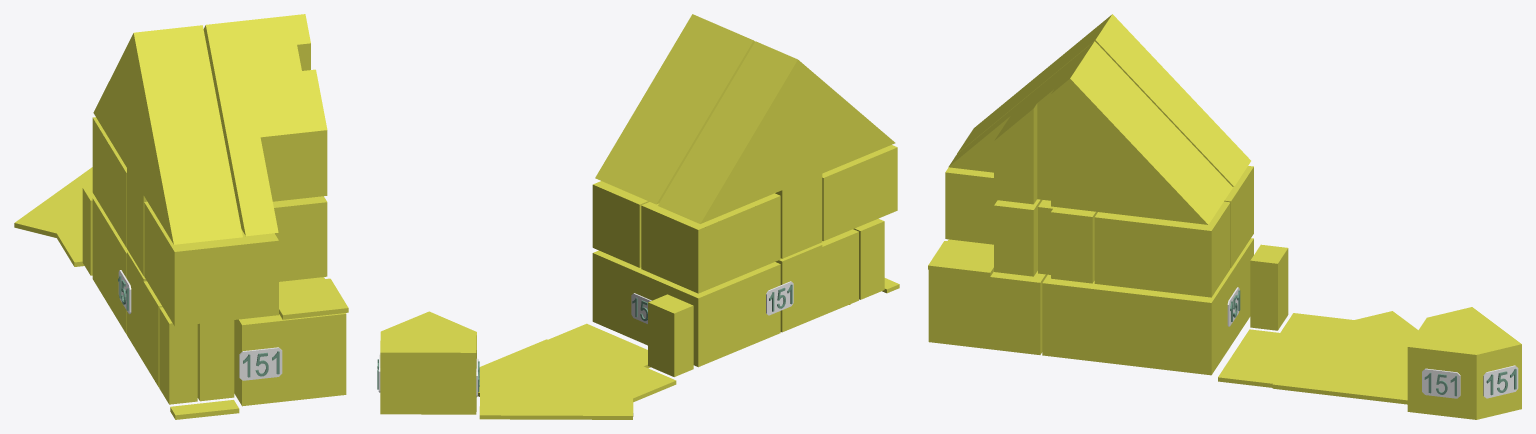
3 views of the same model, side by side, from view 1: azimuth 30°, elevation 25°; view 2: azimuth 150°, elevation 25°; view 3: azimuth 270°, elevation 25° (orthographic). The views are drawn at different scales.
Visible parts, largest first — view 1: g_6, g_7, g_11, g_1, g_2, g_8, g_15, g_5, g_9, g_0, g_17, g_14 (+3 smaller); view 2: g_7, g_15, g_6, g_0, g_9, g_3, g_2, g_8, g_11, g_10, g_4, g_14 (+2 smaller); view 3: g_6, g_0, g_15, g_10, g_3, g_1, g_7, g_11, g_13, g_4, g_9, g_17 (+3 smaller).
Part boxes in pixels (x1,y1,x2,y2): g_6: [203, 14, 327, 236]; g_7: [93, 25, 242, 244]; g_11: [144, 196, 327, 326]; g_1: [234, 277, 346, 406]; g_2: [127, 252, 234, 401]; g_8: [127, 29, 173, 194]; g_15: [14, 167, 92, 266]; g_5: [159, 307, 197, 404]; g_9: [92, 117, 126, 247]; g_0: [92, 197, 128, 334]; g_17: [279, 278, 348, 319]; g_14: [127, 168, 147, 275]; g_7: [658, 41, 895, 223]; g_15: [478, 323, 676, 419]; g_6: [595, 14, 754, 204]; g_0: [592, 250, 780, 367]; g_9: [641, 193, 780, 293]; g_3: [380, 311, 476, 414]; g_2: [775, 229, 858, 332]; g_8: [762, 51, 822, 189]; g_11: [822, 145, 897, 241]; g_10: [592, 181, 649, 267]; g_4: [648, 294, 693, 376]; g_14: [775, 174, 822, 258]; g_6: [948, 41, 1232, 224]; g_0: [1042, 238, 1253, 375]; g_15: [1218, 311, 1418, 404]; g_10: [1094, 201, 1230, 297]; g_3: [1407, 307, 1521, 419]; g_1: [928, 239, 1047, 354]; g_7: [957, 26, 1250, 186]; g_11: [945, 167, 1042, 276]; g_13: [1038, 200, 1097, 283]; g_4: [1250, 244, 1288, 330]; g_9: [1224, 166, 1253, 268]; g_17: [928, 241, 993, 276].
Bounding box in the file's own units: 10.98 × 10.25 × 19.37.
